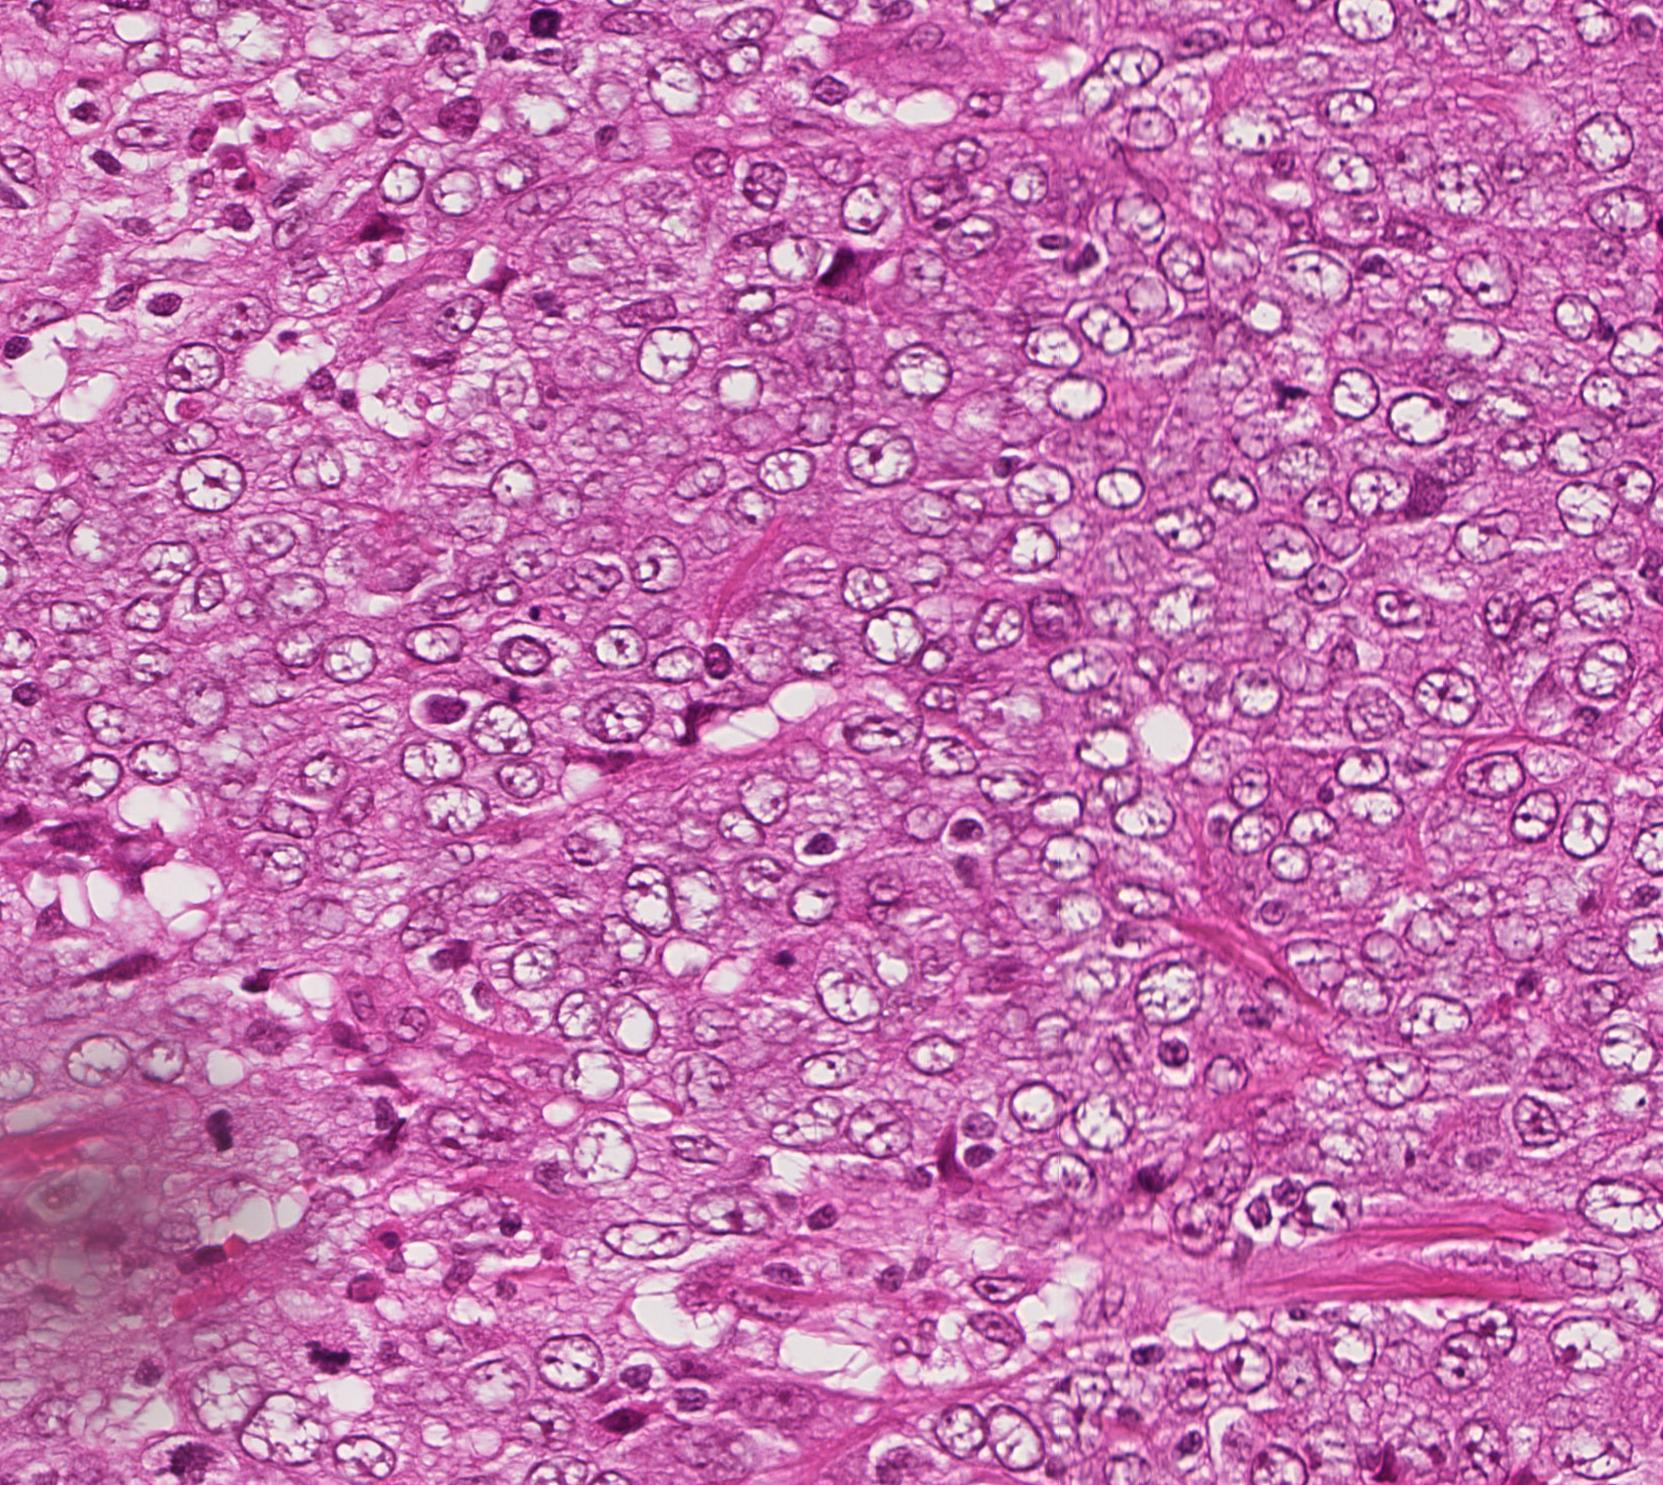mitosis: (509, 3, 569, 63), (181, 1104, 241, 1164), (297, 1313, 357, 1373), (1262, 355, 1320, 416), (166, 1428, 227, 1485)
